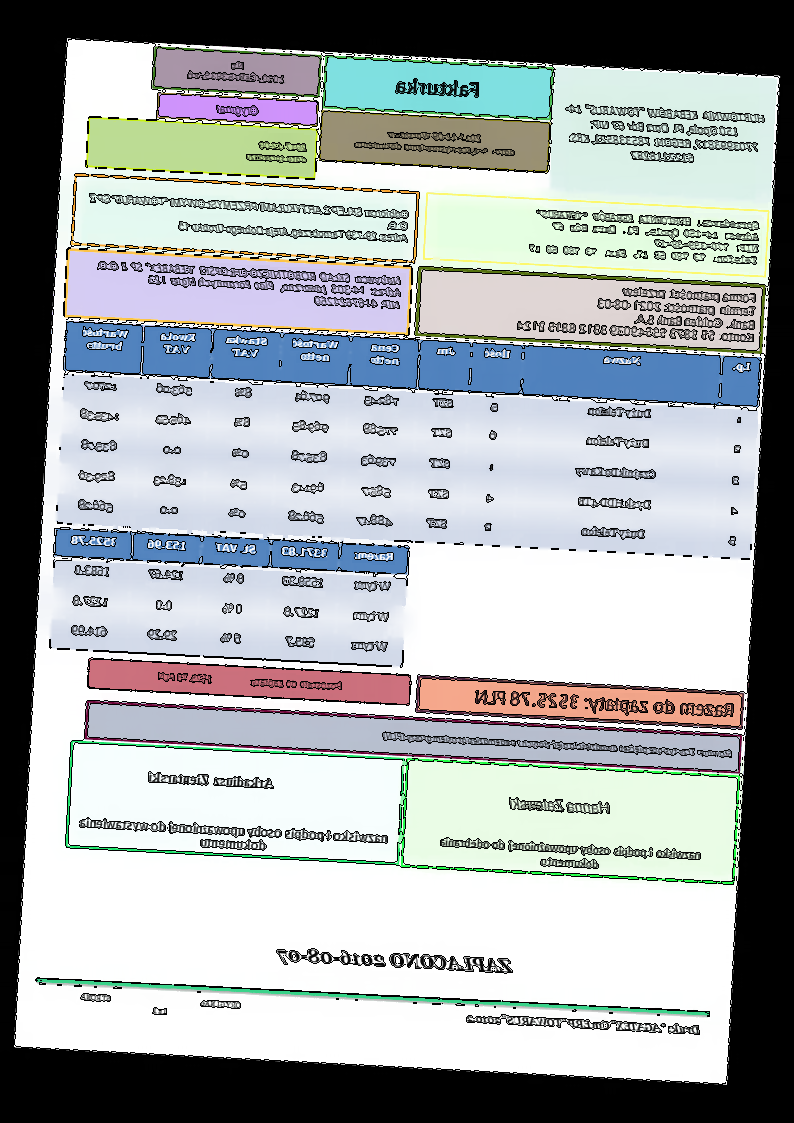Table: (54, 318, 763, 562), (48, 525, 411, 666)
TextBox: (84, 187, 414, 249), (92, 254, 407, 315), (514, 278, 761, 345), (526, 203, 765, 269), (74, 810, 392, 859), (560, 98, 768, 172), (379, 725, 738, 763), (433, 831, 706, 878), (472, 680, 741, 722), (272, 939, 516, 981), (460, 1009, 705, 1041), (351, 122, 521, 160), (152, 665, 348, 695), (78, 989, 244, 1023), (144, 767, 277, 795), (182, 54, 288, 88), (506, 789, 616, 820), (393, 72, 486, 101), (243, 136, 311, 170), (212, 99, 262, 119)
